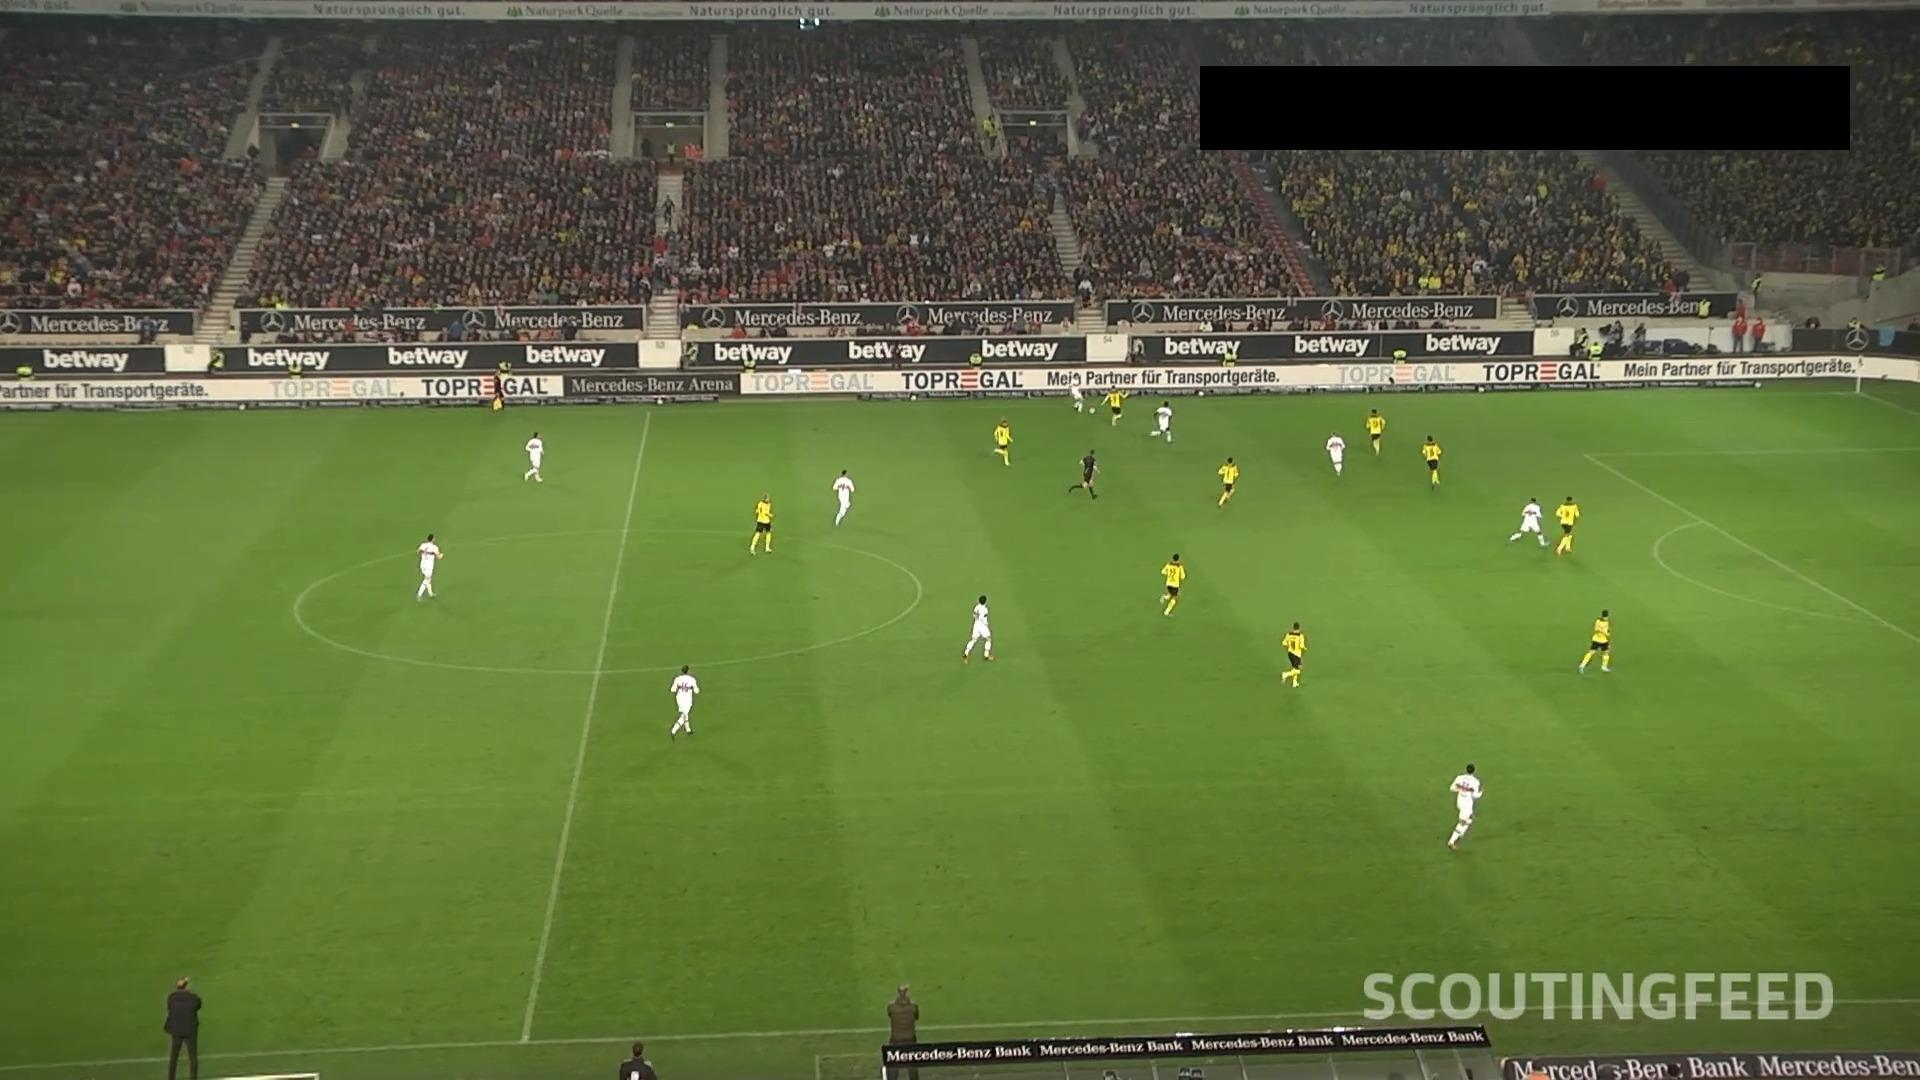ball: (1088, 406, 1097, 415)
